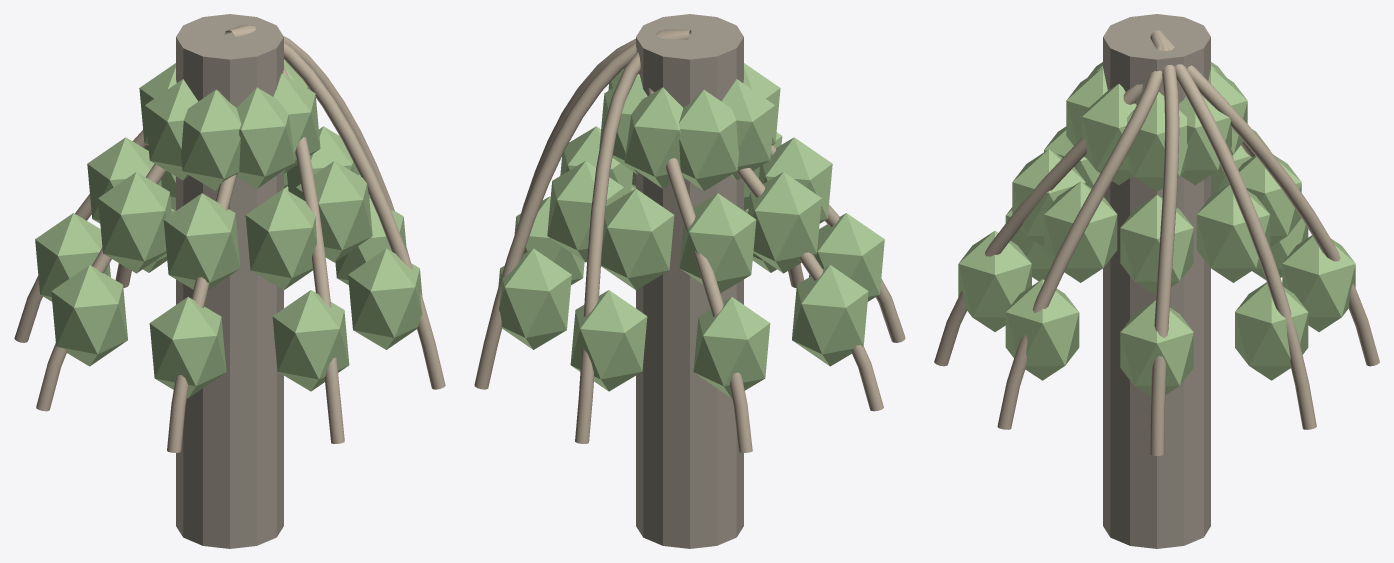
File: willow_growing.glb
3 views of the same model, side by side, from view 1: azimuth 30°, elevation 25°; view 2: azimuth 150°, elevation 25°; view 3: azimuth 270°, elevation 25° (orthographic).
Visible parts, largest first — view 1: WillowGrowingTrunk, WillowGrowingLeafCluster_4_2, WillowGrowingLeafCluster_7_2, WillowGrowingLeafCluster_5_1, WillowGrowingLeafCluster_6_2, WillowGrowingLeafCluster_5_2, WillowGrowingLeafCluster_4_1, WillowGrowingLeafCluster_6_1, WillowGrowingBranchCurve_7, WillowGrowingLeafCluster_5_0, WillowGrowingLeafCluster_7_1, WillowGrowingLeafCluster_6_0 (+12 smaller); view 2: WillowGrowingTrunk, WillowGrowingLeafCluster_4_2, WillowGrowingLeafCluster_2_1, WillowGrowingLeafCluster_1_2, WillowGrowingLeafCluster_3_2, WillowGrowingLeafCluster_2_2, WillowGrowingLeafCluster_4_1, WillowGrowingBranchCurve_2, WillowGrowingBranchCurve_1, WillowGrowingLeafCluster_3_1, WillowGrowingLeafCluster_3_0, WillowGrowingLeafCluster_2_0 (+12 smaller); view 3: WillowGrowingTrunk, WillowGrowingBranchCurve_1, WillowGrowingBranchCurve_0, WillowGrowingBranchCurve_7, WillowGrowingLeafCluster_7_2, WillowGrowingLeafCluster_6_2, WillowGrowingLeafCluster_1_2, WillowGrowingLeafCluster_2_2, WillowGrowingLeafCluster_0_2, WillowGrowingBranchCurve_2, WillowGrowingLeafCluster_1_1, WillowGrowingLeafCluster_7_1 (+13 smaller).
Part boxes in pixels (x1,y1,x2,y2): WillowGrowingTrunk: (176,14,283,548); WillowGrowingLeafCluster_4_2: (51,265,127,366); WillowGrowingLeafCluster_7_2: (348,248,422,349); WillowGrowingLeafCluster_5_1: (163,193,240,290); WillowGrowingLeafCluster_6_2: (272,290,349,391); WillowGrowingLeafCluster_5_2: (149,297,226,398); WillowGrowingLeafCluster_4_1: (98,172,171,273); WillowGrowingLeafCluster_6_1: (245,189,316,289); WillowGrowingBranchCurve_7: (232,27,445,389); WillowGrowingLeafCluster_5_0: (180,89,241,190); WillowGrowingLeafCluster_7_1: (296,161,372,262); WillowGrowingLeafCluster_6_0: (236,87,295,188); WillowGrowingTrunk: (636,14,743,548); WillowGrowingLeafCluster_4_2: (792,265,868,366); WillowGrowingLeafCluster_2_1: (601,189,674,289); WillowGrowingLeafCluster_1_2: (498,248,571,349); WillowGrowingLeafCluster_3_2: (693,297,770,398); WillowGrowingLeafCluster_2_2: (570,290,647,391); WillowGrowingLeafCluster_4_1: (748,172,821,273); WillowGrowingBranchCurve_2: (575,31,689,443); WillowGrowingBranchCurve_1: (474,31,685,389); WillowGrowingLeafCluster_3_1: (679,193,756,293); WillowGrowingLeafCluster_3_0: (678,89,738,190); WillowGrowingLeafCluster_2_0: (624,87,683,188); WillowGrowingTrunk: (1103,14,1210,548); WillowGrowingBranchCurve_1: (1160,32,1316,429); WillowGrowingBranchCurve_0: (1150,30,1179,455); WillowGrowingBranchCurve_7: (997,31,1162,429); WillowGrowingLeafCluster_7_2: (1005,279,1079,380); WillowGrowingLeafCluster_6_2: (958,231,1031,331); WillowGrowingLeafCluster_1_2: (1235,282,1308,380); WillowGrowingLeafCluster_2_2: (1282,235,1355,331); WillowGrowingLeafCluster_0_2: (1120,300,1193,396); WillowGrowingBranchCurve_2: (1159,30,1379,366); WillowGrowingLeafCluster_1_1: (1196,184,1270,282); WillowGrowingLeafCluster_7_1: (1044,181,1117,282).
Size of the model in its own units: 1.24 by 1.52 by 1.24.
